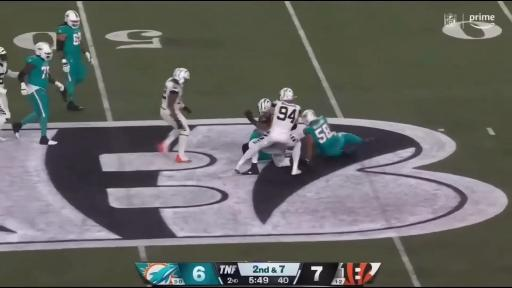Helmet: (35, 42, 52, 60), (65, 10, 80, 28), (173, 68, 189, 84), (302, 110, 316, 125), (258, 99, 271, 115), (280, 88, 294, 100), (0, 47, 7, 61)
Jersey: (304, 116, 340, 154), (57, 23, 81, 61), (271, 101, 300, 132), (26, 55, 49, 89), (162, 78, 183, 111), (0, 62, 8, 87)
Player: (235, 88, 301, 175), (13, 42, 66, 145), (56, 11, 92, 111), (302, 110, 363, 162), (158, 68, 191, 162), (0, 47, 18, 131), (245, 99, 271, 141)
